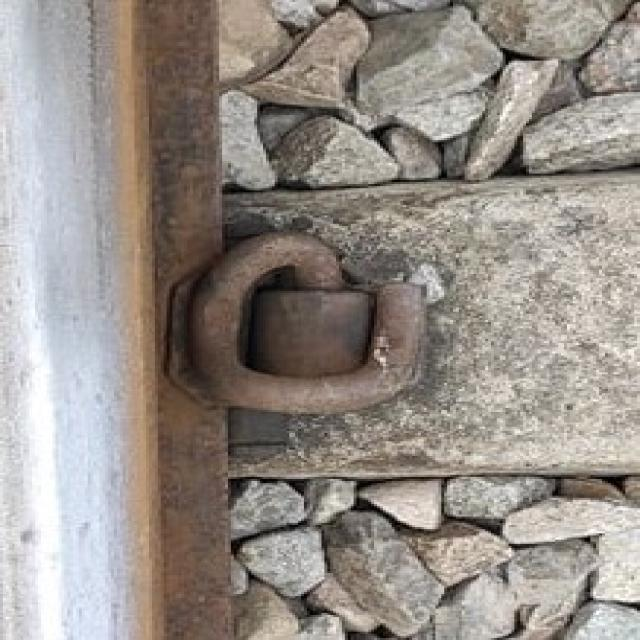track_bolt: (184, 222, 441, 423)
